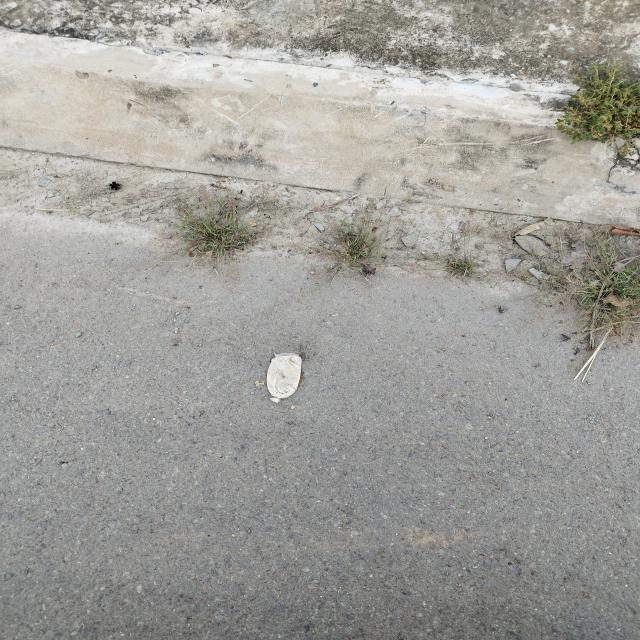bag: (266, 352, 302, 404)
